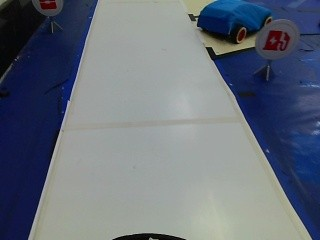battery: (262, 26, 293, 57)
